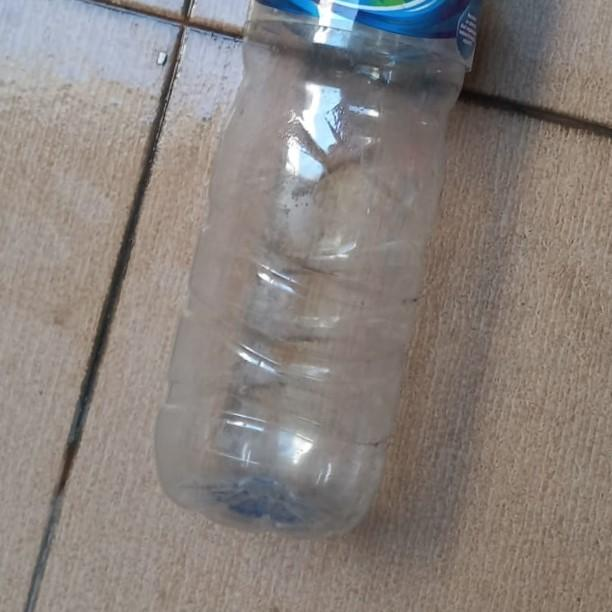Plastik: (154, 0, 480, 541), (37, 34, 37, 34)
